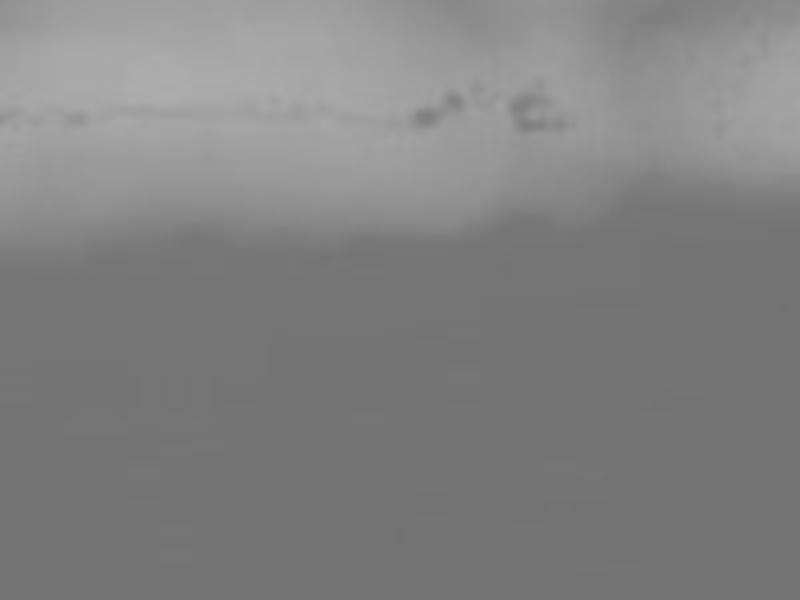defect: (506, 89, 551, 113), (467, 79, 499, 107), (409, 104, 438, 130), (513, 116, 547, 135), (61, 108, 90, 127), (551, 114, 572, 136), (443, 89, 463, 110)
